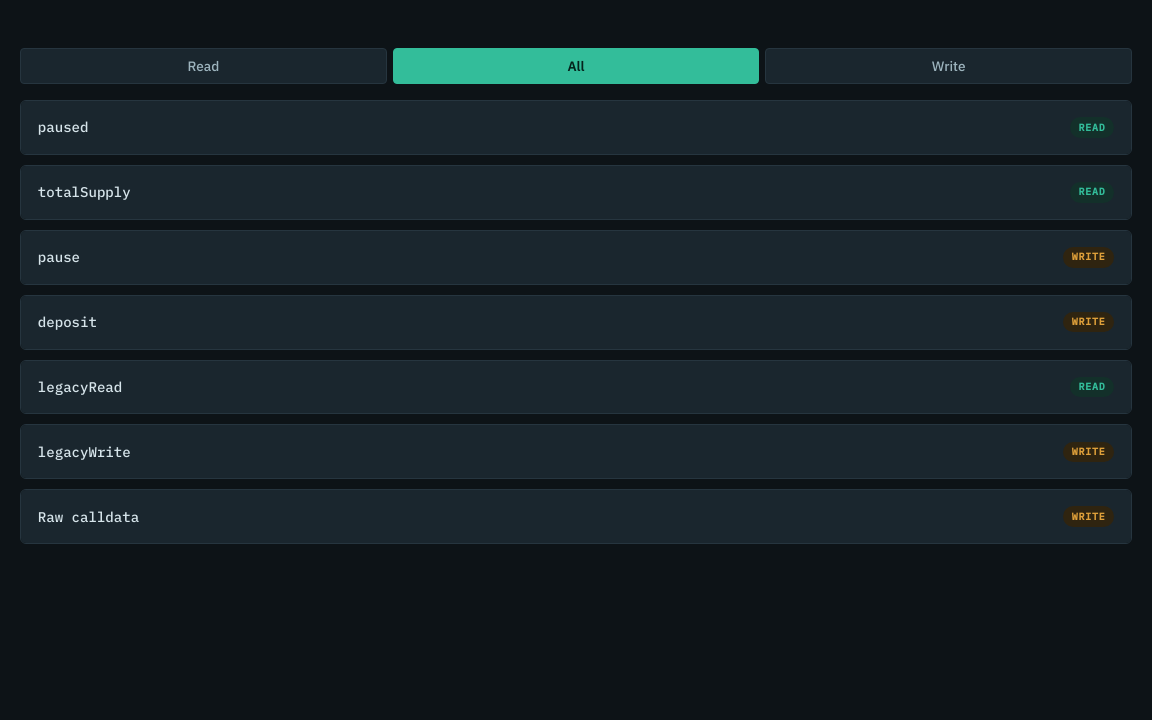
Scenario: the All / Read / Write filter › Read shows view, pure and legacy constant functions only
Click the button "Read" at x=203, y=66, box [20,48,387,84]
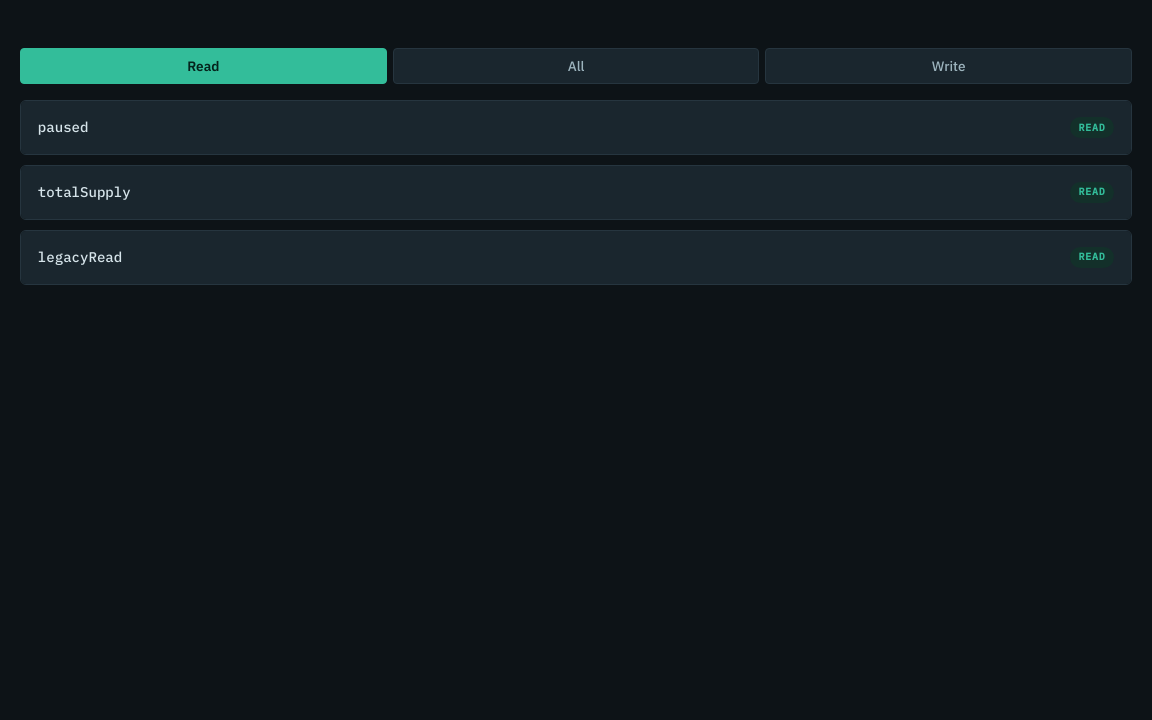
Now the text "deposit" is gone
Now the text "legacyWrite" is gone
Now the text "Raw calldata" is gone
